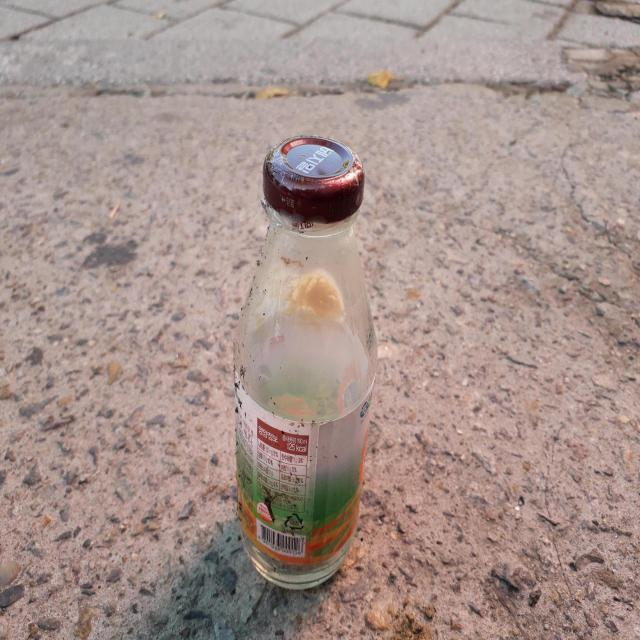glass: (234, 136, 377, 590)
